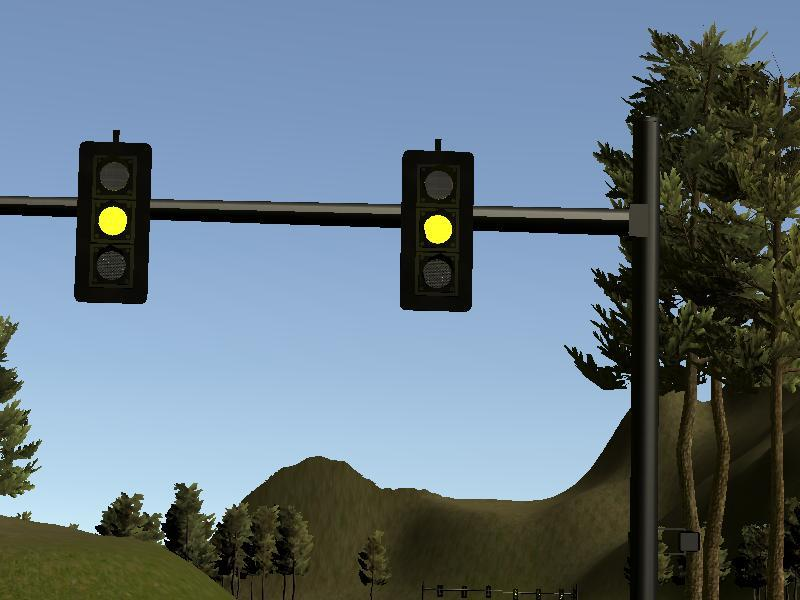Yellow: (74, 140, 153, 304), (399, 150, 475, 313)
